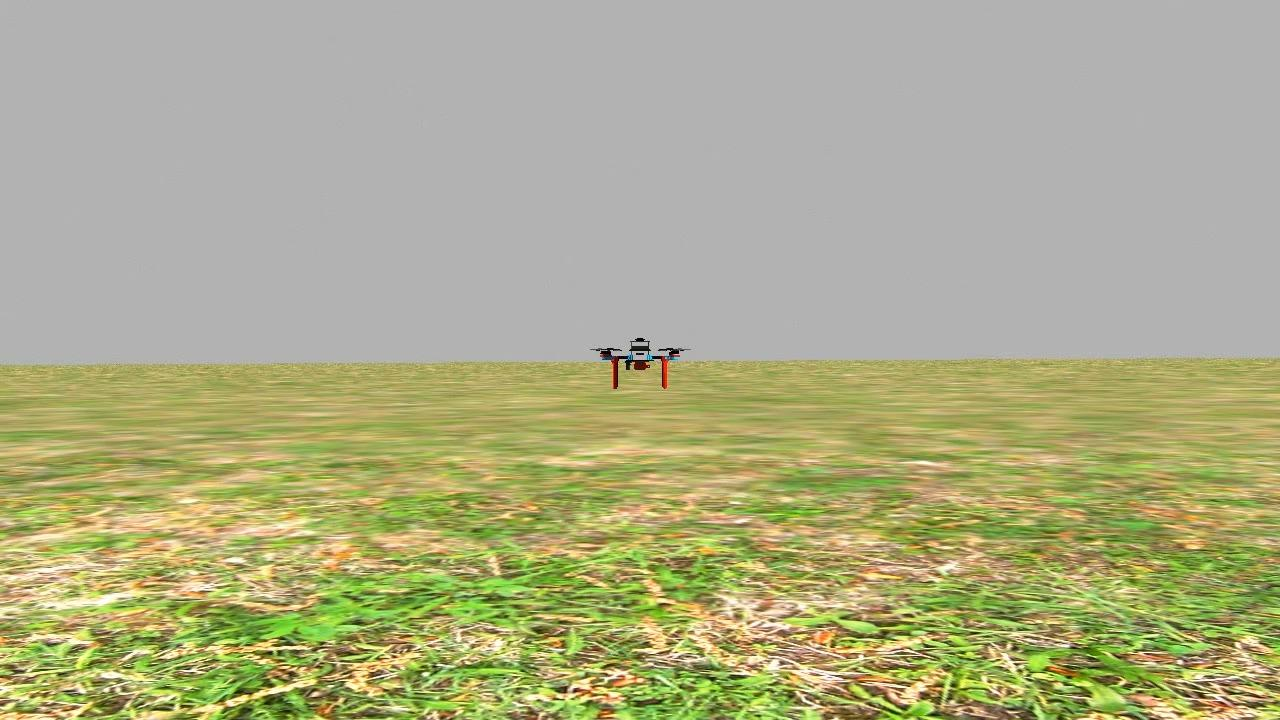UAV: (590, 332, 685, 388)
